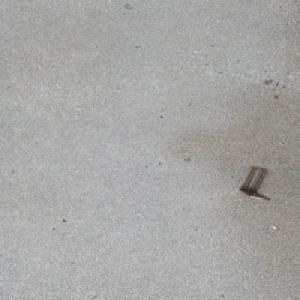MetalPart: (237, 166, 271, 200)
